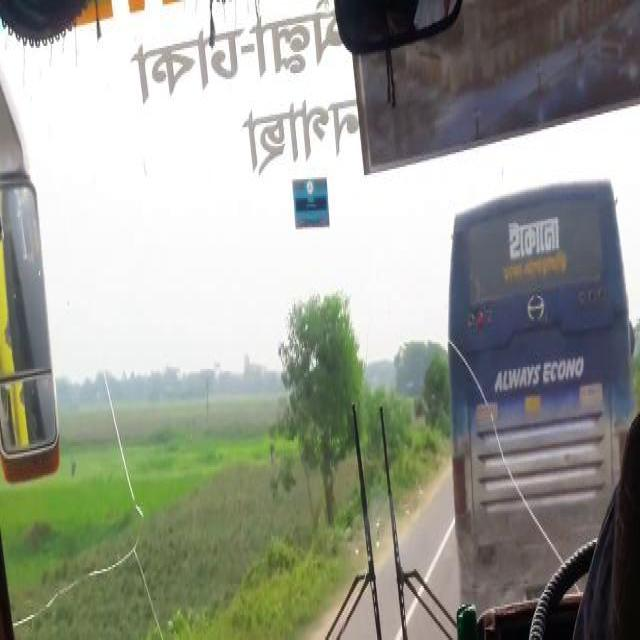Truck: (452, 184, 622, 602)
